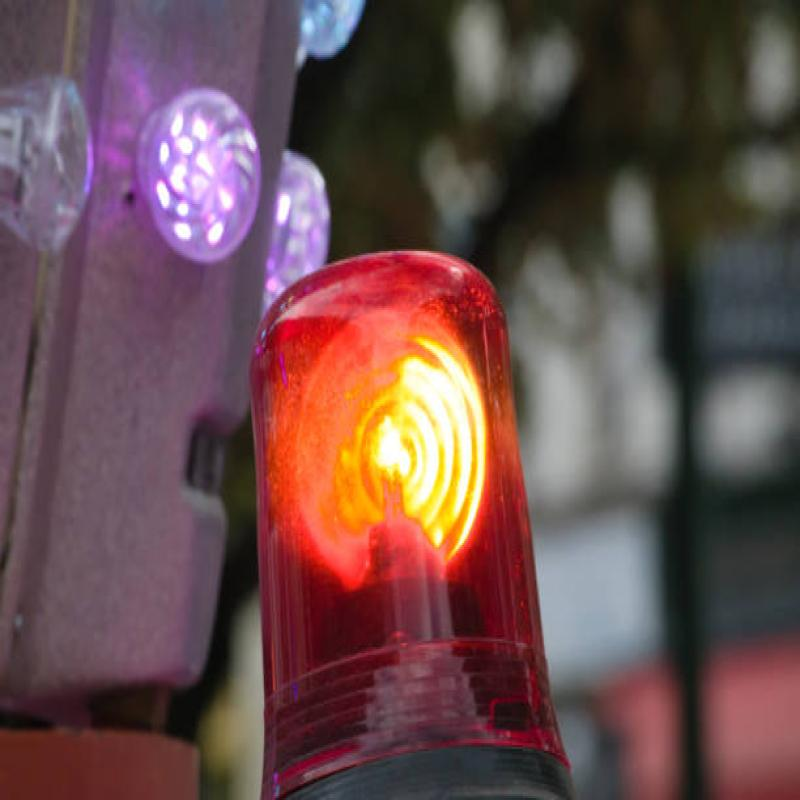AmbulanceSiren: (247, 194, 573, 800)
